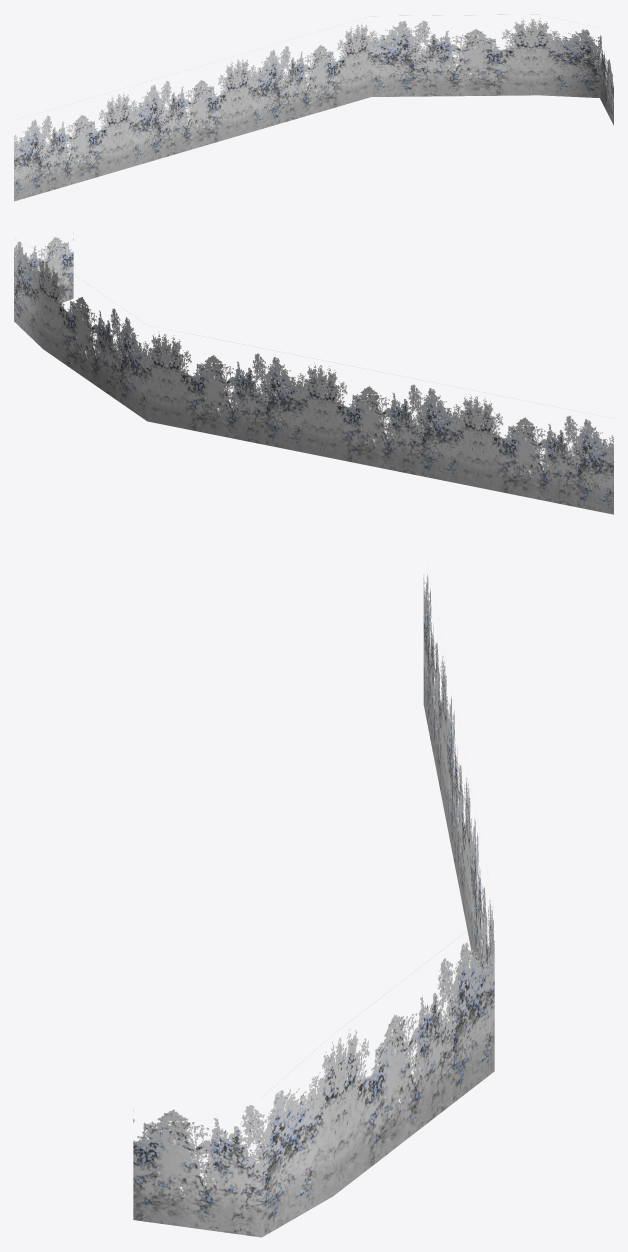
File: kp_bg_cliptrees_B.glb
3 renders of one model, top to bottom at view 1: azimuth 30°, elevation 25°; view 2: azimuth 150°, elevation 25°; view 3: azimuth 270°, elevation 25°, orthographic. The views are drawn at different scales.
Visible parts, largest first — view 1: foliage_clip_bgtrees_winter_01.001; view 2: foliage_clip_bgtrees_winter_01.001; view 3: foliage_clip_bgtrees_winter_01.001.
Part boxes in pixels (x1,y1,x2,y2): foliage_clip_bgtrees_winter_01.001: [14, 14, 613, 201]; foliage_clip_bgtrees_winter_01.001: [14, 233, 613, 514]; foliage_clip_bgtrees_winter_01.001: [133, 574, 494, 1237].
Bounding box in the file's own units: 93.44 × 13.26 × 26.82.
1 material, 1 textured.
